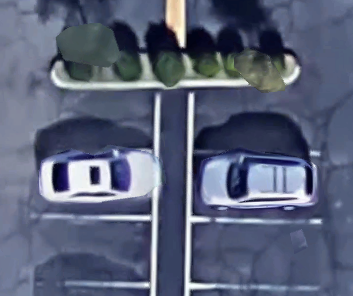Occupied: (188, 152, 320, 221), (31, 151, 156, 218)
Vacant: (189, 220, 320, 287), (189, 85, 318, 153), (30, 217, 153, 284), (35, 88, 158, 153)
